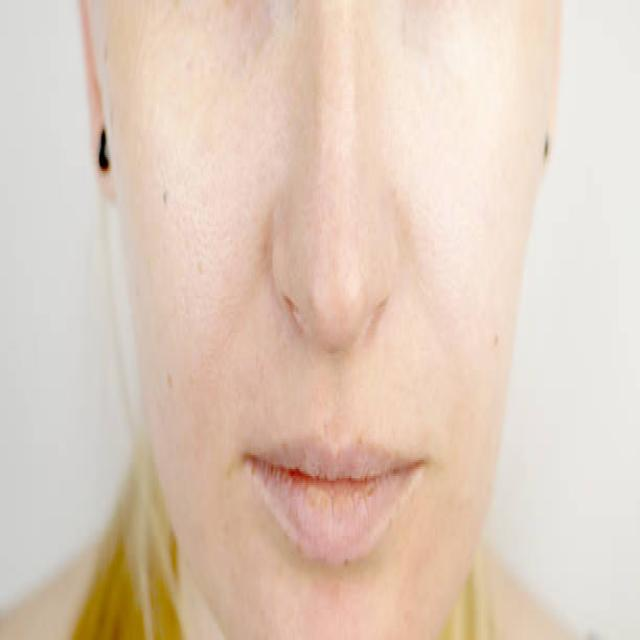Dry-Skin: (164, 316, 310, 498), (294, 133, 380, 390), (253, 49, 356, 213), (276, 438, 381, 588), (166, 78, 242, 282), (161, 365, 270, 465), (387, 36, 456, 192), (486, 158, 560, 302), (194, 350, 269, 475), (446, 148, 482, 326), (436, 442, 472, 520)
